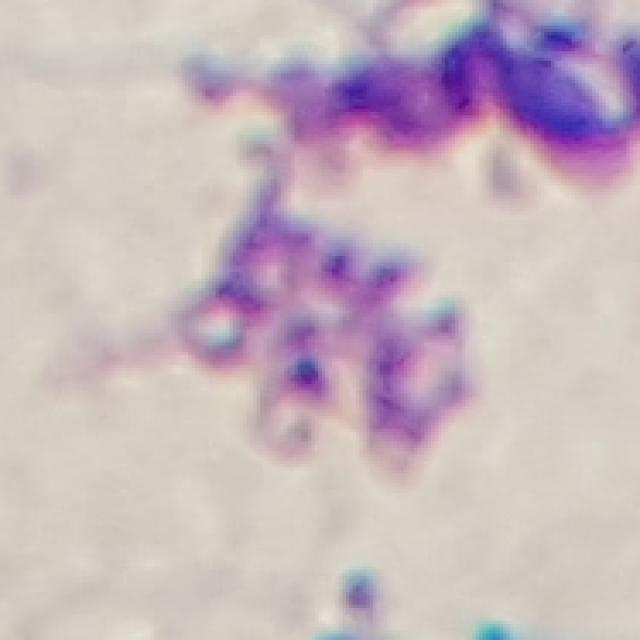non-sperm: (184, 190, 476, 462)
